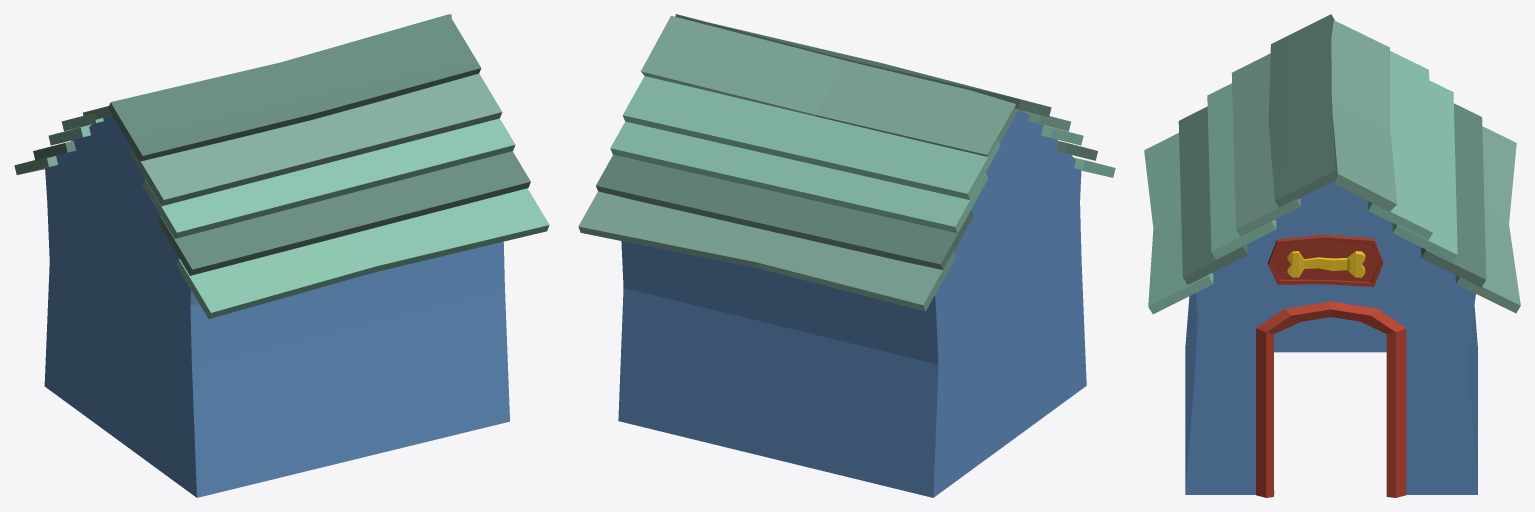
Rendered from PetHouse_01.glb.
The picture shows the model from 3 angles, left to right: view 1: azimuth 30°, elevation 25°; view 2: azimuth 150°, elevation 25°; view 3: azimuth 270°, elevation 25°; orthographic projection. The views are drawn at different scales.
Parts seen in each view (by area): view 1: PetHouse_01; view 2: PetHouse_01; view 3: PetHouse_01.
Boxes of the visible parts, left/top/right/bottom form: PetHouse_01: left=14, top=14, right=549, bottom=497; PetHouse_01: left=578, top=14, right=1115, bottom=497; PetHouse_01: left=1144, top=14, right=1520, bottom=497.
Size of what is drawn, in the model's own units: 1.93 by 1.85 by 1.9.
Materials: 1 (1 with a texture image).
